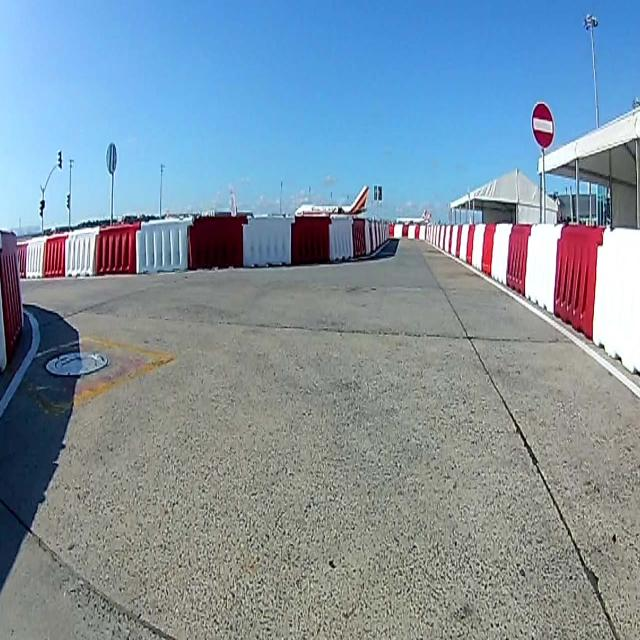girisyok: (530, 100, 556, 148)
